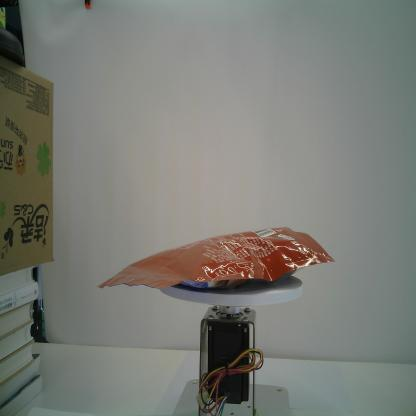Dried Food: (95, 224, 338, 292)
